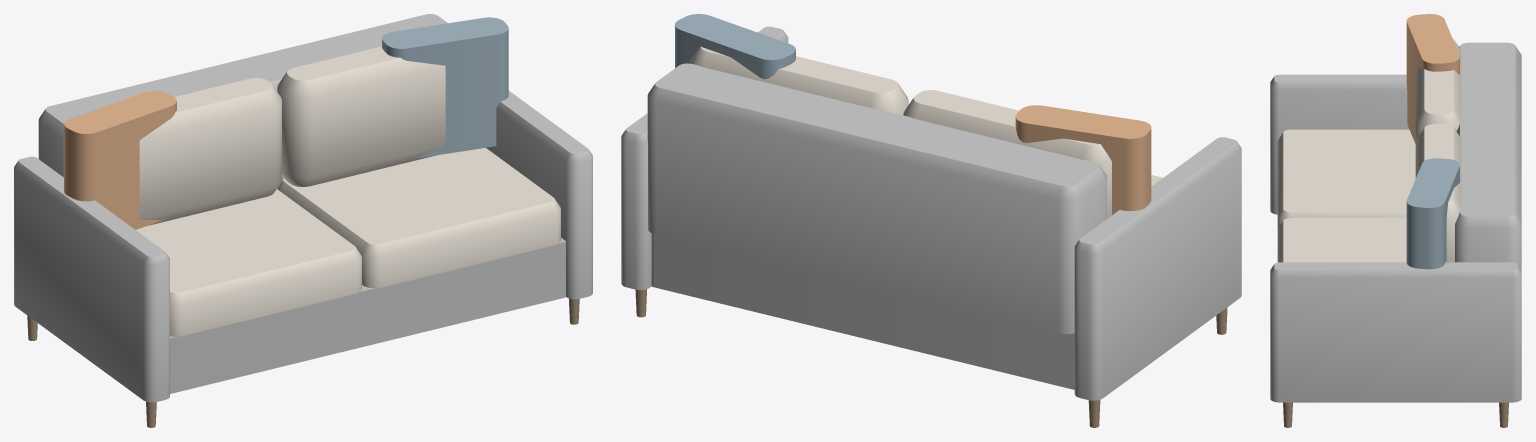
The picture shows the model from 3 angles, left to right: view 1: azimuth 30°, elevation 25°; view 2: azimuth 150°, elevation 25°; view 3: azimuth 270°, elevation 25°; orthographic projection. The views are drawn at different scales.
Parts seen in each view (by area): view 1: Sofa tay mỏng Chiều dài=1600; view 2: Sofa tay mỏng Chiều dài=1600; view 3: Sofa tay mỏng Chiều dài=1600.
Part boxes in pixels (box(x1,y1,x2,y2)): Sofa tay mỏng Chiều dài=1600: box(14, 14, 592, 427); Sofa tay mỏng Chiều dài=1600: box(621, 14, 1241, 427); Sofa tay mỏng Chiều dài=1600: box(1270, 14, 1521, 427).
Size of the model in its own units: 1.6 by 0.83 by 0.854.
